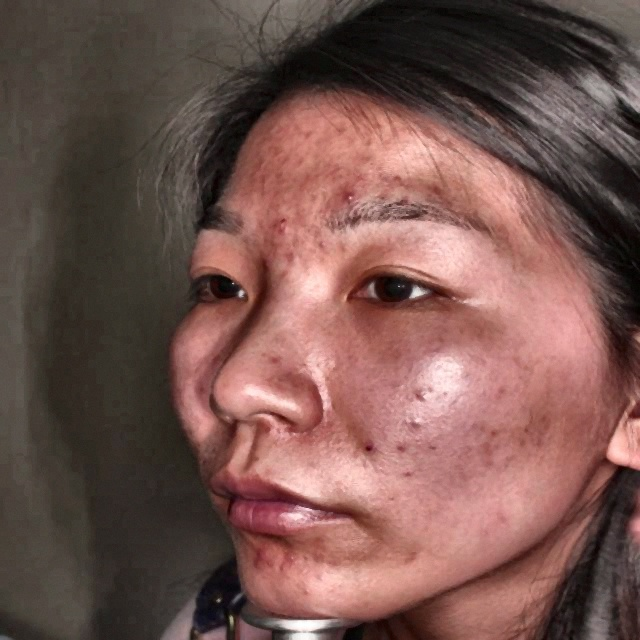comedone: (244, 537, 277, 580), (282, 536, 313, 574), (272, 205, 308, 232), (334, 179, 359, 213)
